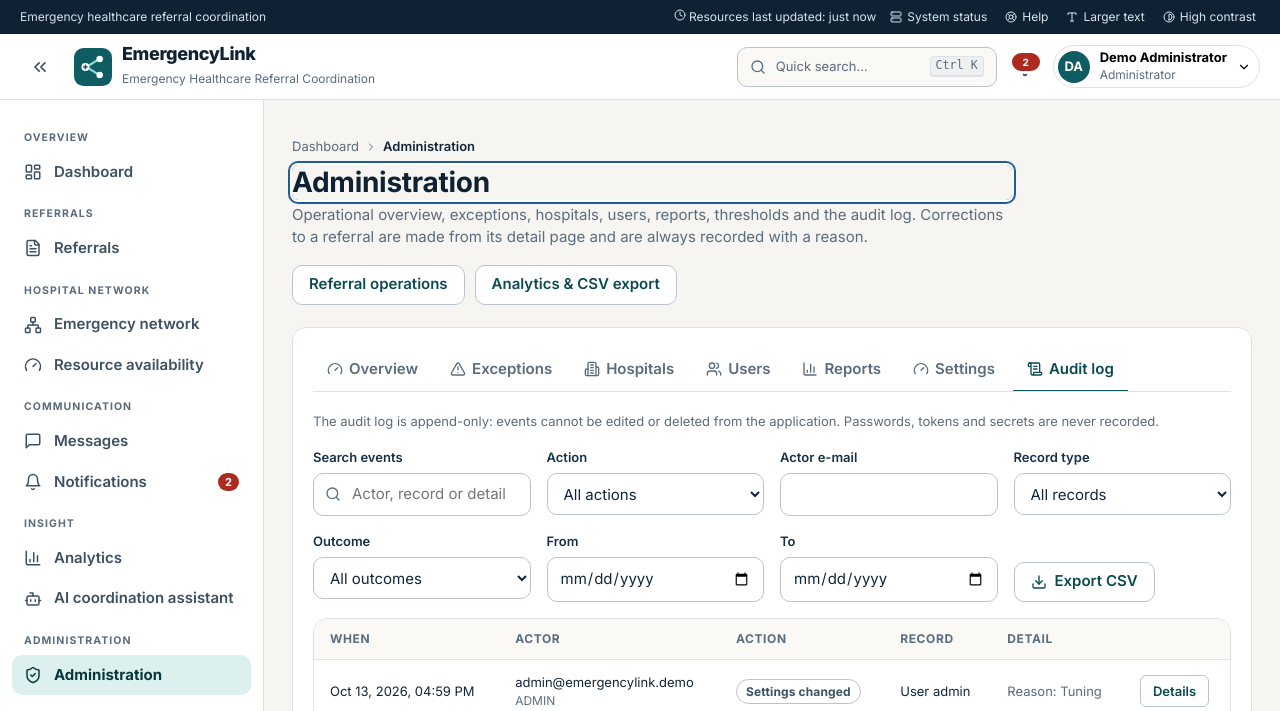
Test: administrator tools: ownership, settings, reports, audit, hospitals, saved filters › shows reason, before and after for an audit event
Click the button "Details" at (1174, 691), box [1140,675,1209,707]
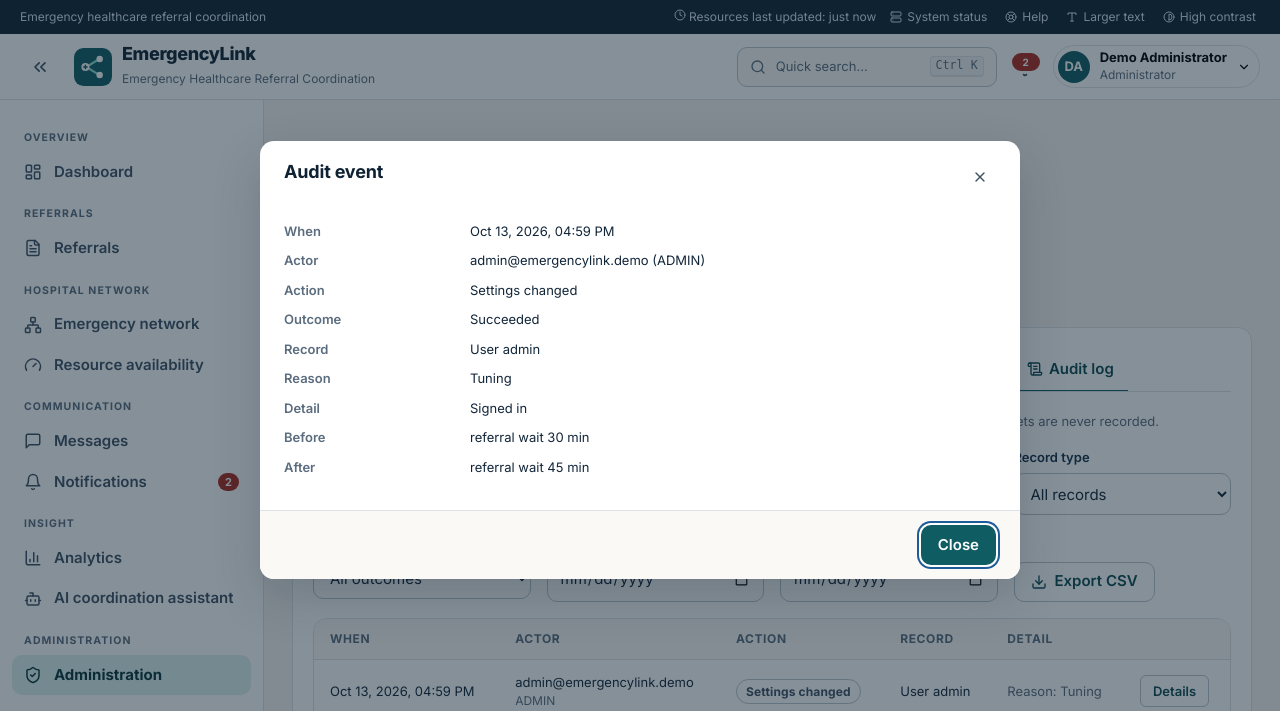
expect the text "referral wait 30 min" is shown: met, box [470,429,590,445]
expect the text "referral wait 45 min" is shown: met, box [470,459,589,475]
expect the text "Tuning" is shown: met, box [470,370,512,386]
